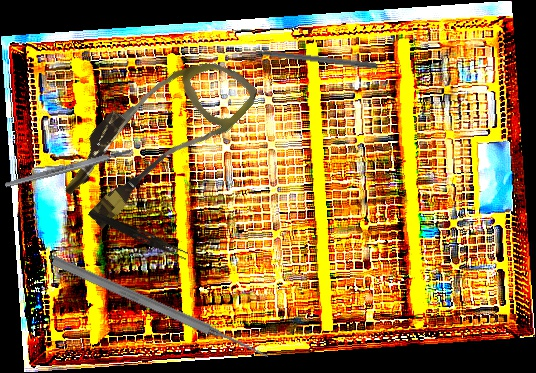Cannula: (48, 27, 263, 246)
Dressing Forceps: (86, 208, 190, 261)
Pusher: (50, 253, 271, 364), (234, 44, 379, 70)
Scalpel Handle: (4, 147, 132, 189)
